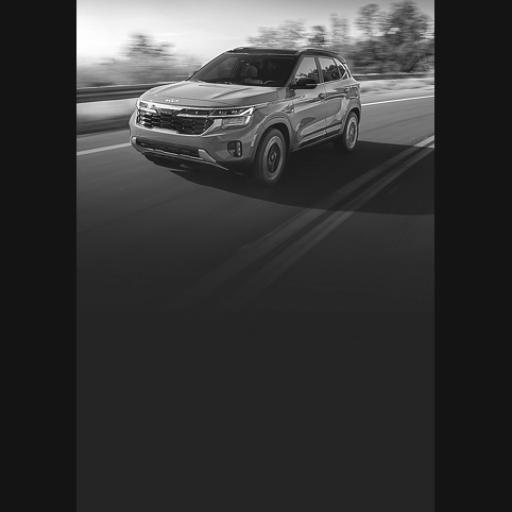suv: (129, 48, 360, 184)
